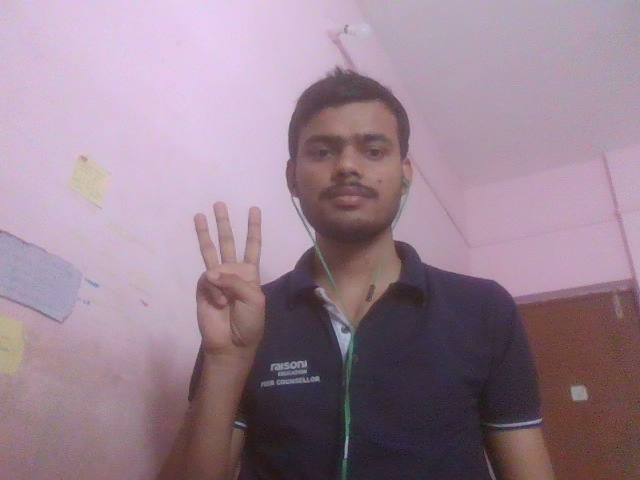Water: (121, 150, 354, 345)
